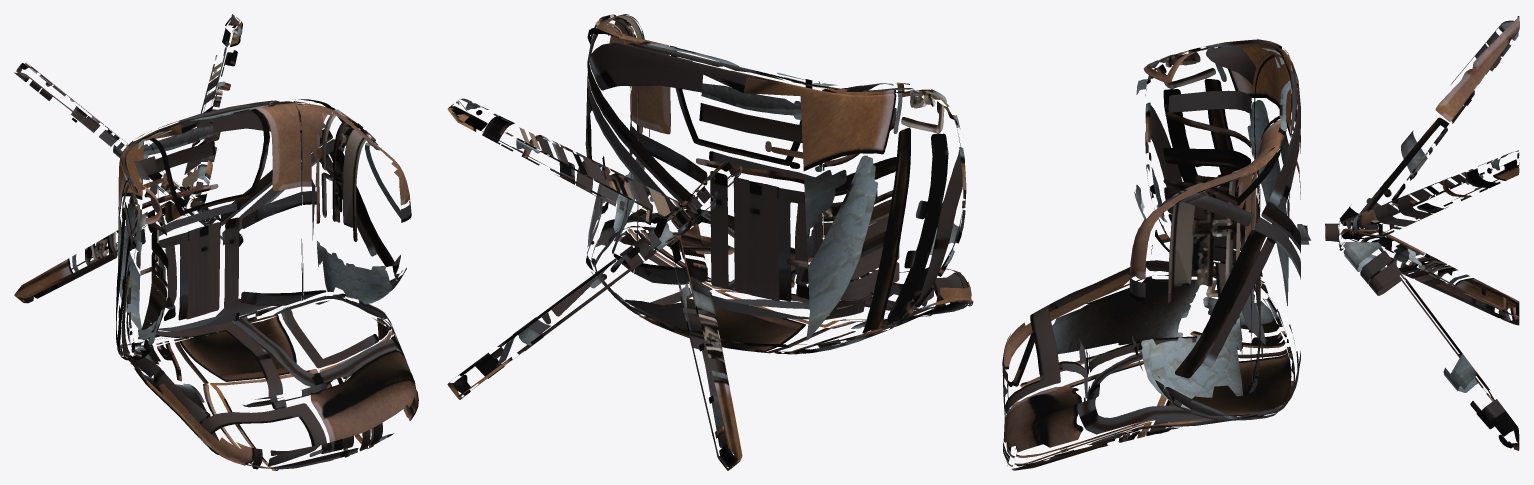
3 views of the same model, side by side, from view 1: azimuth 30°, elevation 25°; view 2: azimuth 150°, elevation 25°; view 3: azimuth 270°, elevation 25° (orthographic). The views are drawn at different scales.
Bounding box in the file's own units: 0.6 × 0.5702 × 0.7314.
